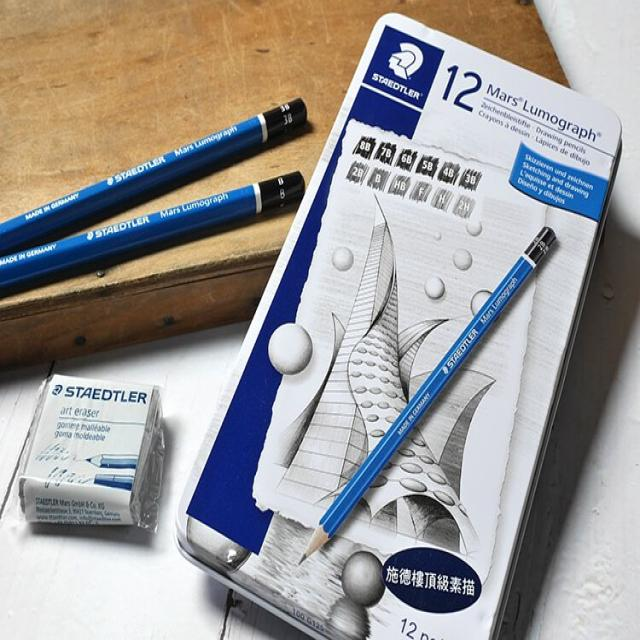pencil: (298, 219, 563, 568), (0, 88, 311, 260), (1, 160, 312, 301)
